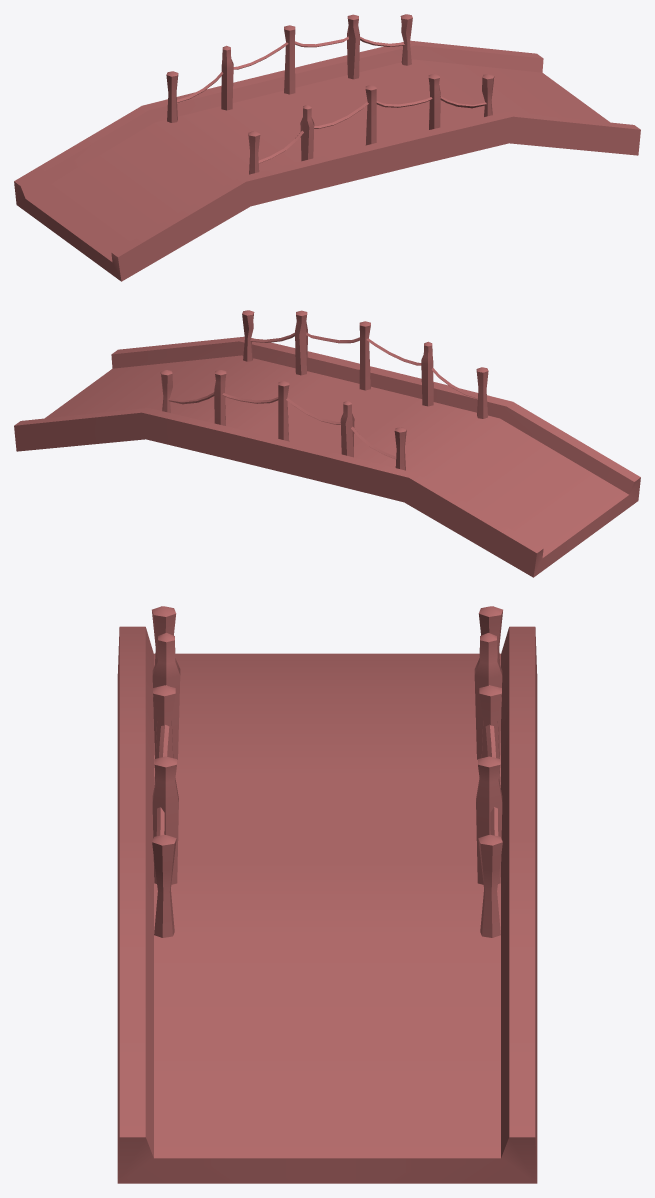
File: Brige.fbx
3 views of the same model, one above another, from view 1: azimuth 30°, elevation 25°; view 2: azimuth 150°, elevation 25°; view 3: azimuth 270°, elevation 25° (orthographic). The views are drawn at different scales.
Visible parts, largest first — view 1: Brige; view 2: Brige; view 3: Brige.
Boxes of the visible parts, x1,y1,x2,y2 form: Brige: [14, 14, 640, 281]; Brige: [14, 310, 640, 577]; Brige: [117, 606, 537, 1183].
Size of the model in its own units: 485 by 110 by 169.
